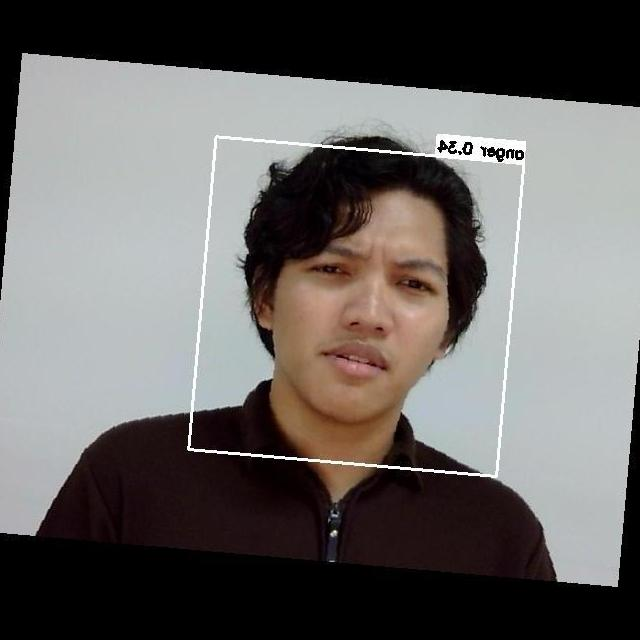Fear: (267, 218, 447, 397)
